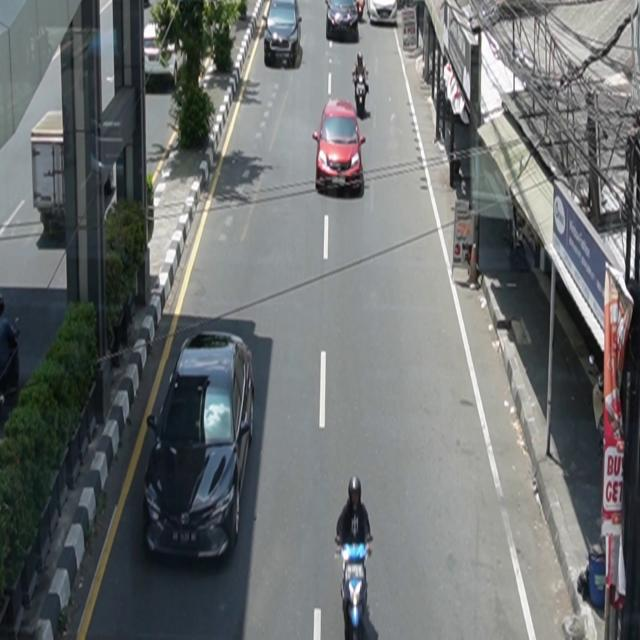car: (143, 330, 256, 564), (313, 99, 367, 197), (264, 1, 303, 69)
